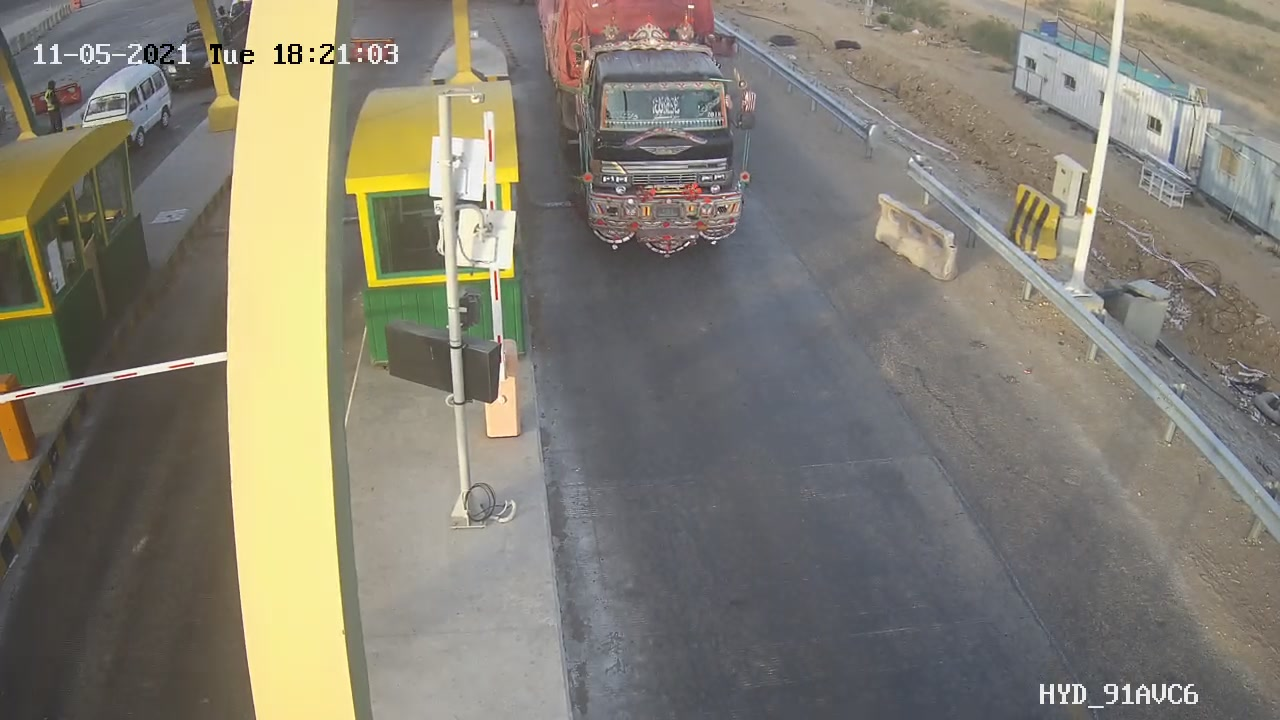F6: (537, 15, 773, 255)
